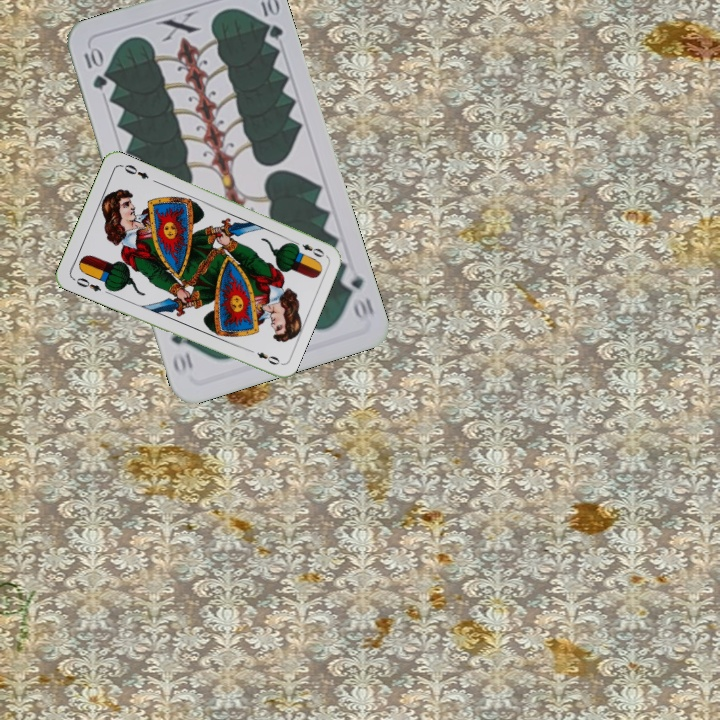EO: (289, 237, 327, 260), (69, 274, 104, 294)
G10: (337, 264, 377, 324), (80, 43, 110, 92)
